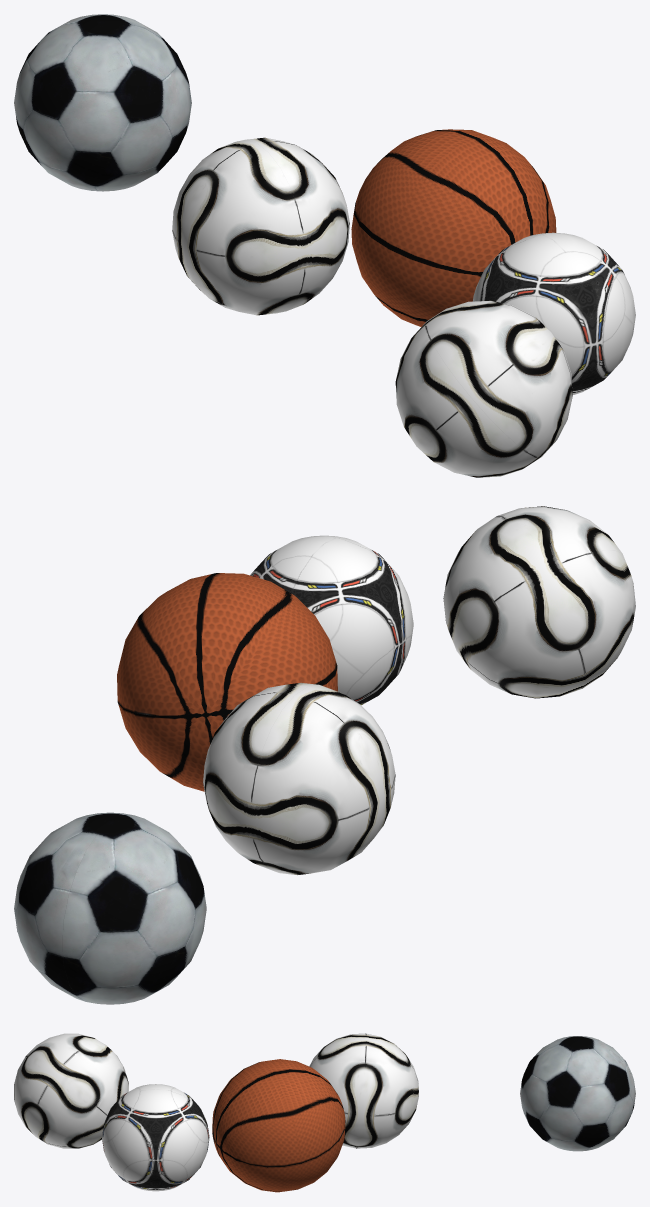
File: SportBall01_06.FBX
The picture shows the model from 3 angles, top to bottom: view 1: azimuth 30°, elevation 25°; view 2: azimuth 150°, elevation 25°; view 3: azimuth 270°, elevation 25°; orthographic projection. The views are drawn at different scales.
Visible parts, largest first — view 1: SportBalls01_06_LOD0; view 2: SportBalls01_06_LOD0; view 3: SportBalls01_06_LOD0.
Part boxes in pixels (bbox=[...]): SportBalls01_06_LOD0: bbox=[14, 14, 635, 477]; SportBalls01_06_LOD0: bbox=[14, 506, 635, 1004]; SportBalls01_06_LOD0: bbox=[14, 1033, 635, 1192].
Size of what is drawn, in the model's own units: 548 by 327 by 1532.
